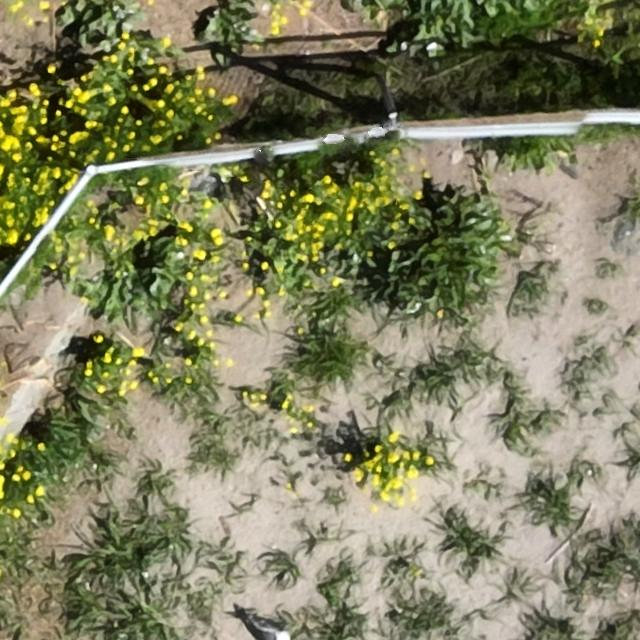umineko: (256, 622, 285, 640)
